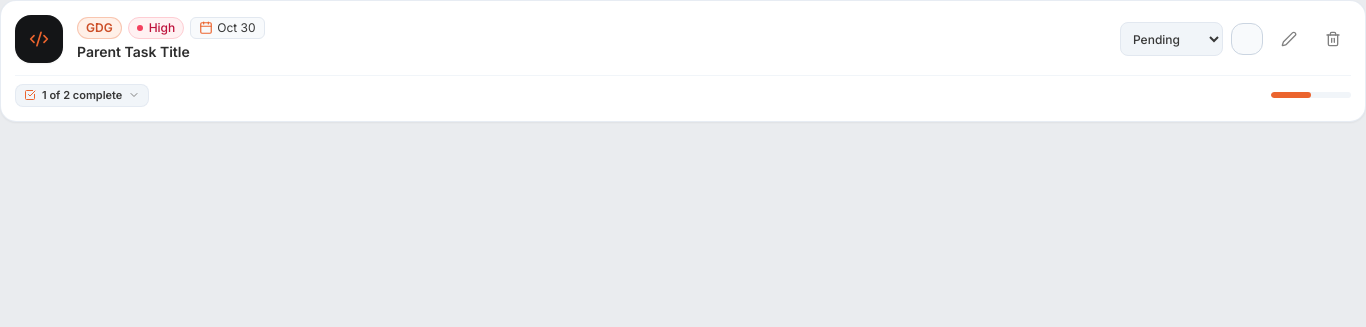
Test case: TaskFlow Subtasks / Checklists Feature › 8. UI Components: TaskChecklist and TaskItem integration › renders collapsed checklist summary on TaskItem and expands when clicked
Note: Expand checklist
Click the button "1 of 2 complete".
click(82, 95)  # box top-left (15, 84), bottom-right (149, 106)
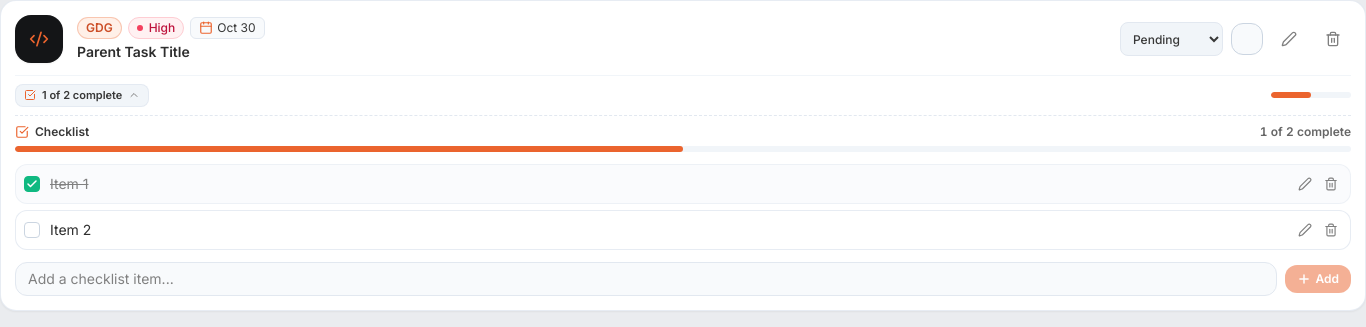
Now the button "1 of 2 complete" is expanded, box top-left (15, 84), bottom-right (149, 106)
Now the text "Item 1" is shown, box top-left (50, 174), bottom-right (88, 194)
Now the text "Item 2" is shown, box top-left (50, 220), bottom-right (91, 240)
